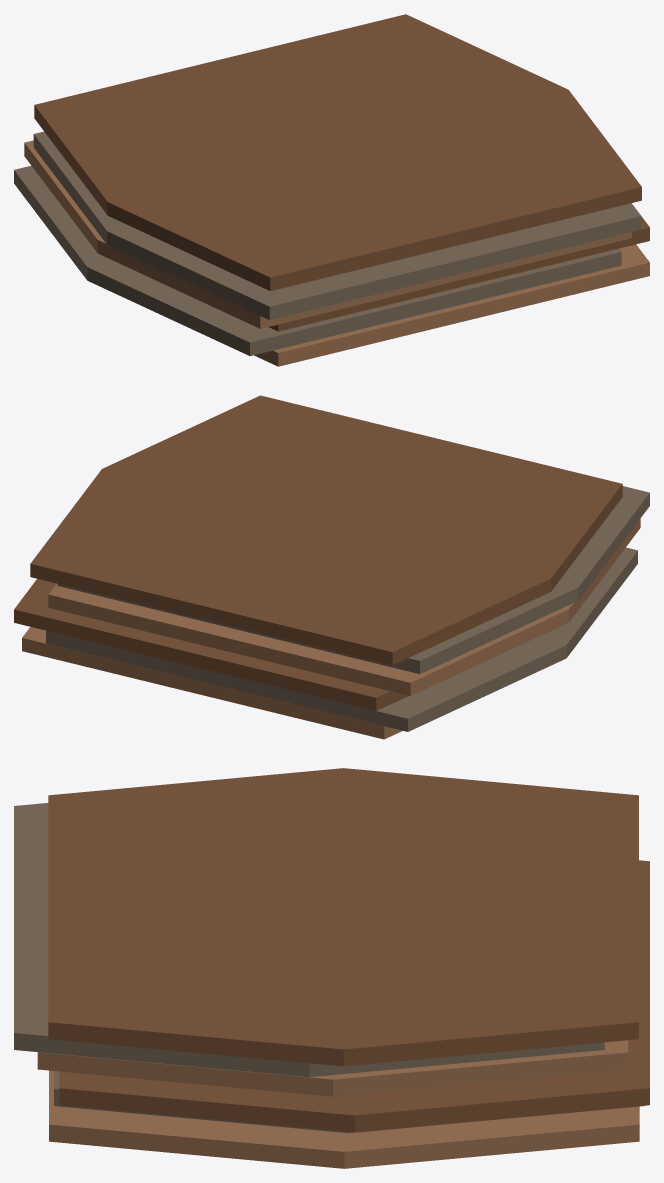
Rendered from pile_hides_2.glb.
The picture shows the model from 3 angles, top to bottom: view 1: azimuth 30°, elevation 25°; view 2: azimuth 150°, elevation 25°; view 3: azimuth 270°, elevation 25°; orthographic projection. The views are drawn at different scales.
Visible parts, largest first — view 1: pile_hides_2; view 2: pile_hides_2; view 3: pile_hides_2.
Part boxes in pixels (x1,y1,x2,y2): pile_hides_2: (14, 14, 649, 366); pile_hides_2: (14, 395, 649, 739); pile_hides_2: (14, 768, 649, 1168).
Bounding box in the file's own units: 1.32 × 0.235 × 1.18.
